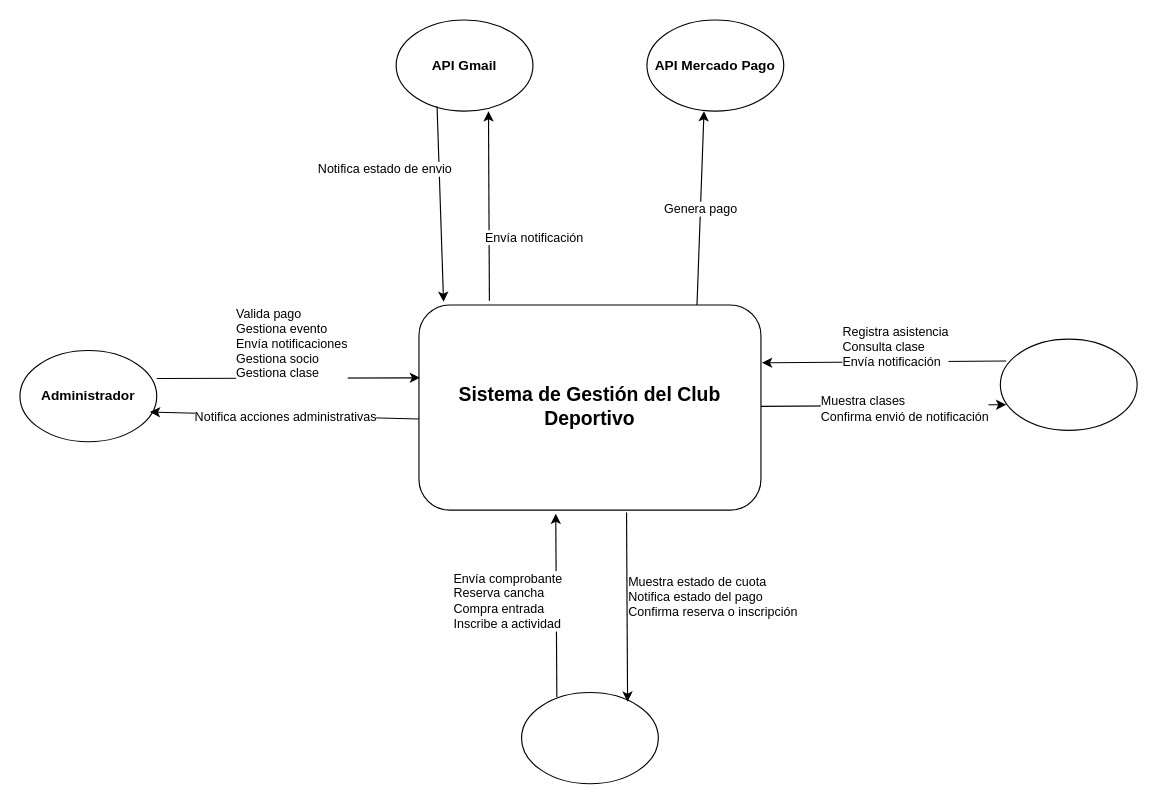
Image size: 1157x804. Some labels were removed from this diagram. Each missing label, with the centre of its shape:
Profesor: the point at 1068,384
Socio: the point at 589,737
